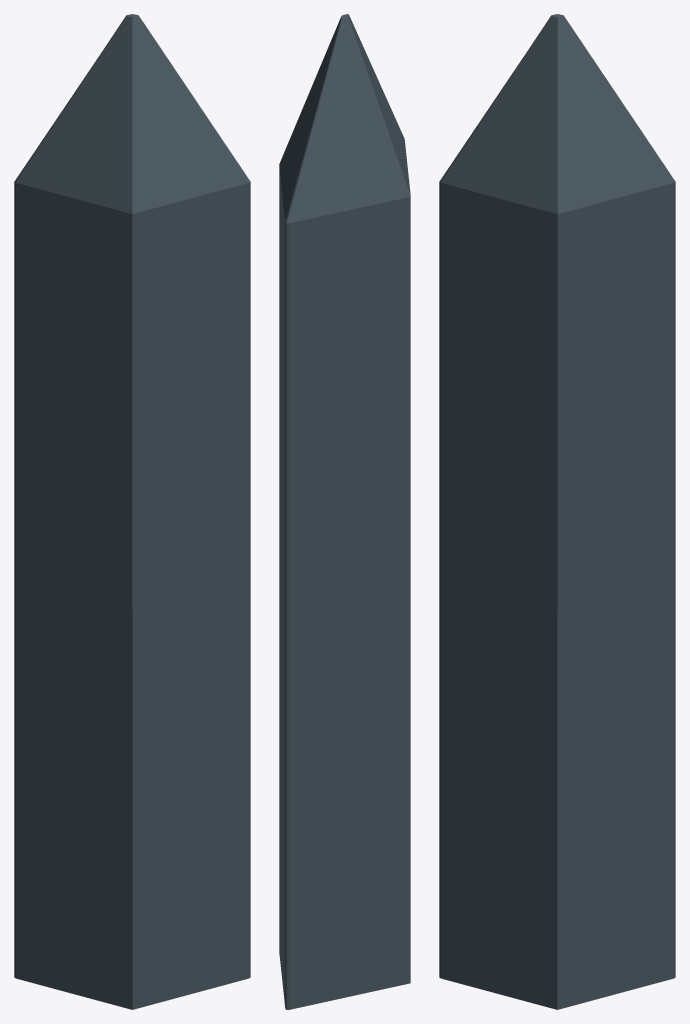
Rendered from Blade_Sword.fbx.
3 renders of one model, left to right at view 1: azimuth 90°, elevation 25°; view 2: azimuth 150°, elevation 25°; view 3: azimuth 270°, elevation 25°, orthographic.
Visible parts, largest first — view 1: Blade_Sword; view 2: Blade_Sword; view 3: Blade_Sword.
Part boxes in pixels (x1,y1,x2,y2): Blade_Sword: [14, 14, 250, 1009]; Blade_Sword: [279, 14, 410, 1009]; Blade_Sword: [439, 14, 675, 1009].
Bounding box in the file's own units: 49.11 × 339 × 75.49.
